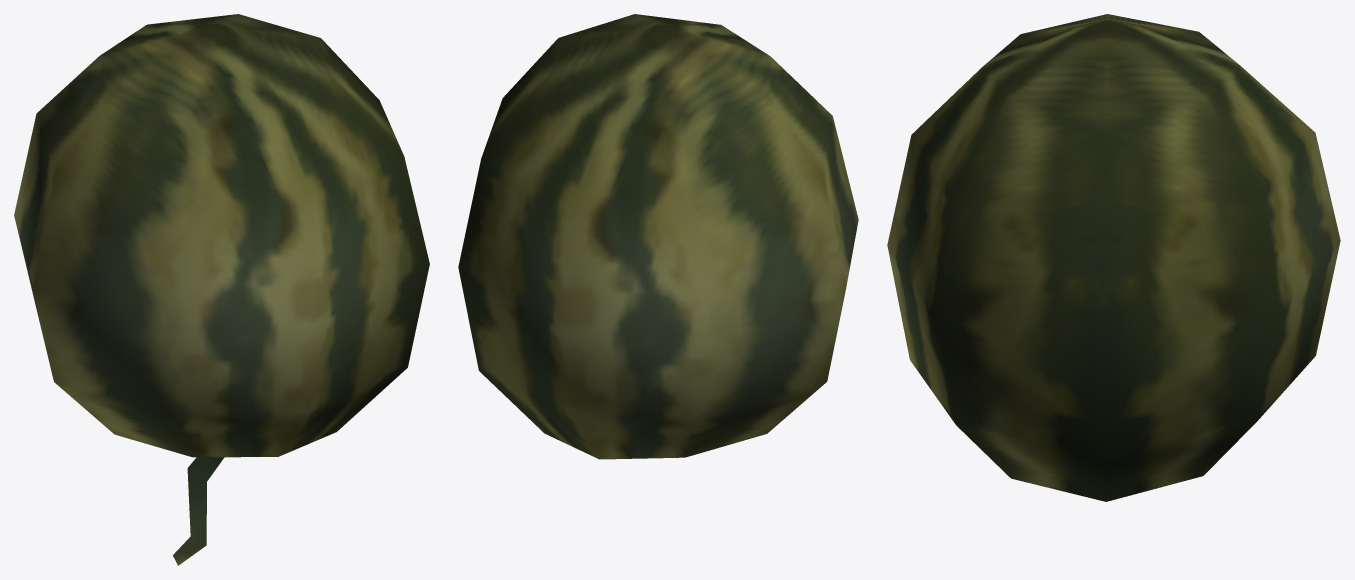
The model's file is Melon A.glb.
The picture shows the model from 3 angles, left to right: view 1: azimuth 30°, elevation 25°; view 2: azimuth 150°, elevation 25°; view 3: azimuth 270°, elevation 25°; orthographic projection. The views are drawn at different scales.
Visible parts, largest first — view 1: Melon A; view 2: Melon A; view 3: Melon A.
Boxes of the visible parts, left/top/right/bottom form: Melon A: left=14, top=14, right=429, bottom=565; Melon A: left=458, top=14, right=858, bottom=459; Melon A: left=887, top=14, right=1340, bottom=501.
Bounding box in the file's own units: 0.9329 × 1.28 × 0.9318.
Materials: 1 (1 with a texture image).
